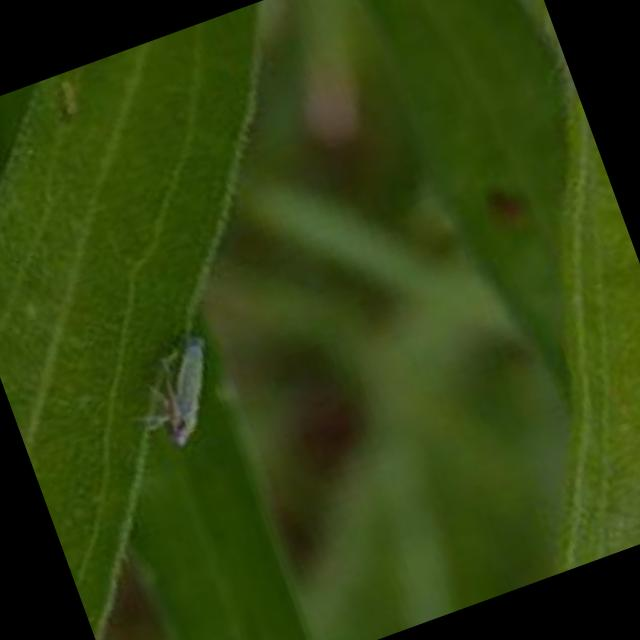green-leafhopper: (124, 324, 238, 456)
